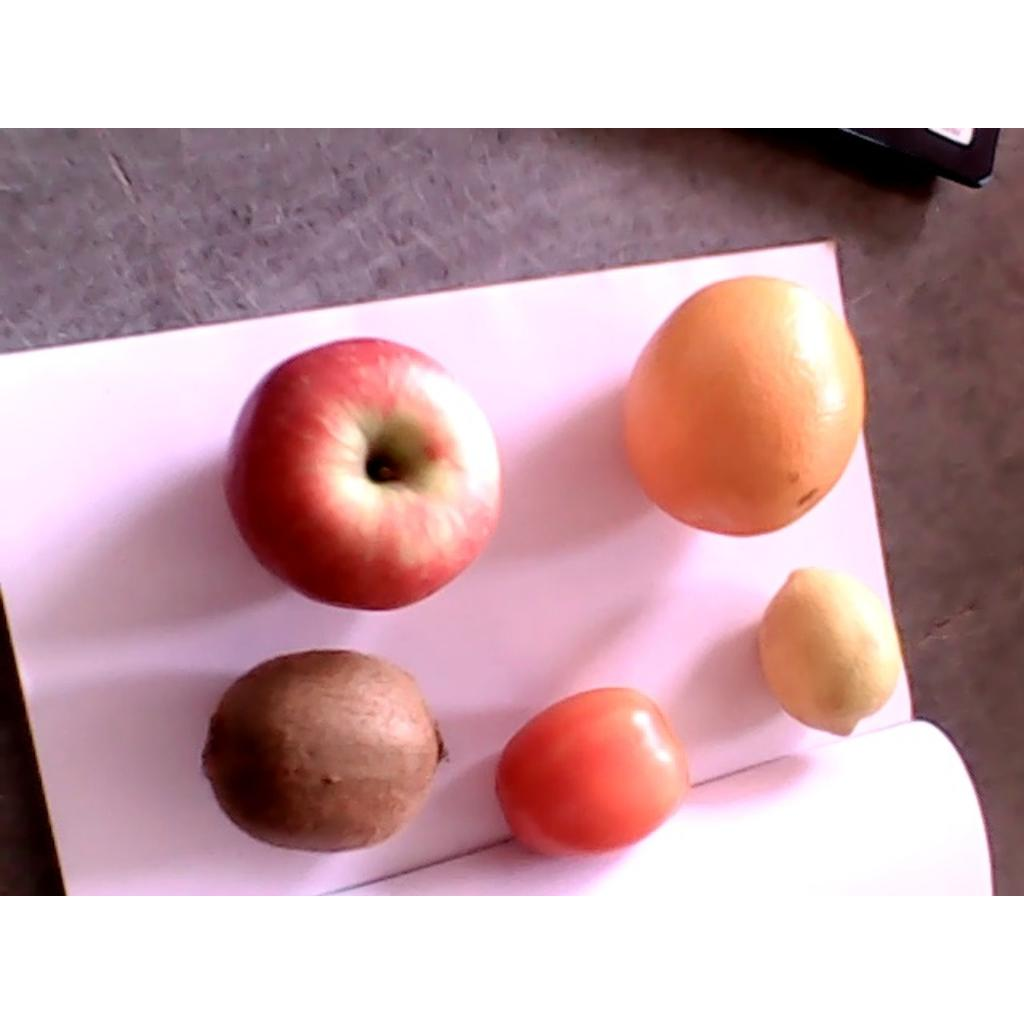apple: (220, 336, 502, 613)
kiwi: (203, 647, 447, 853)
lemon: (757, 565, 899, 739)
orange: (618, 274, 864, 537)
tomato: (492, 687, 692, 859)
